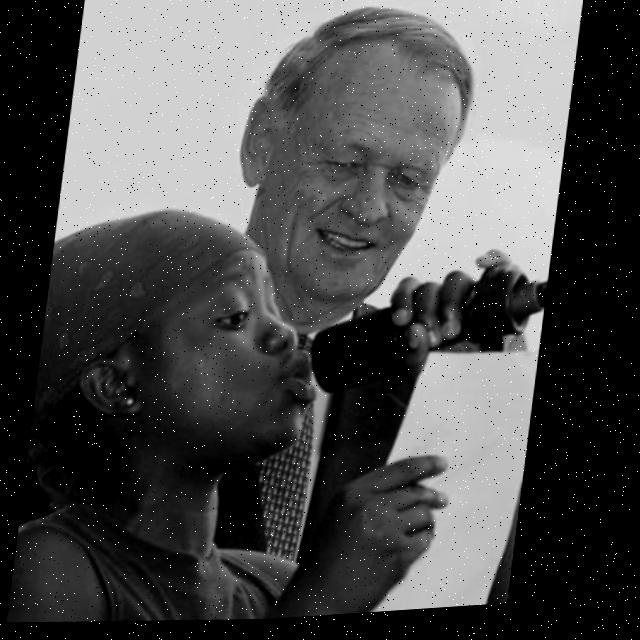face: (43, 208, 370, 497), (221, 19, 495, 301)
